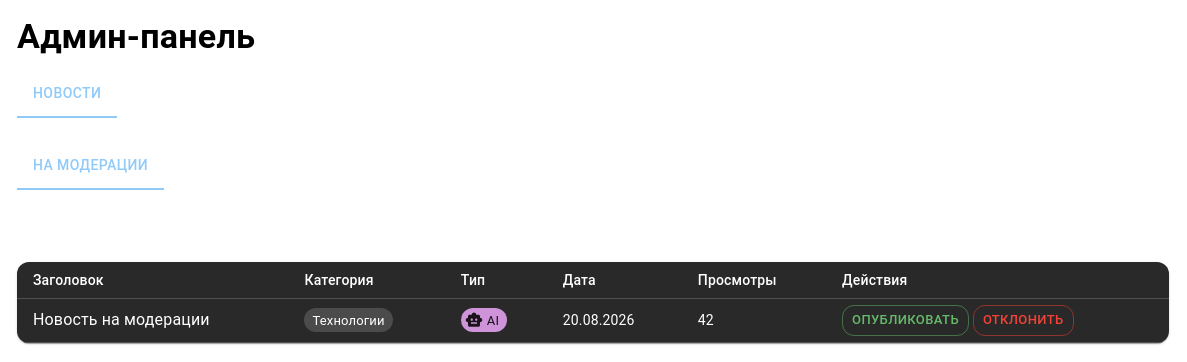
Test: AdminPage › loads users on users tab
Check: the heading "Админ-панель" is shown, box [17,16,255,56]
Click the tab "Пользователи". click: (191, 94)
box: [117,70,264,118]
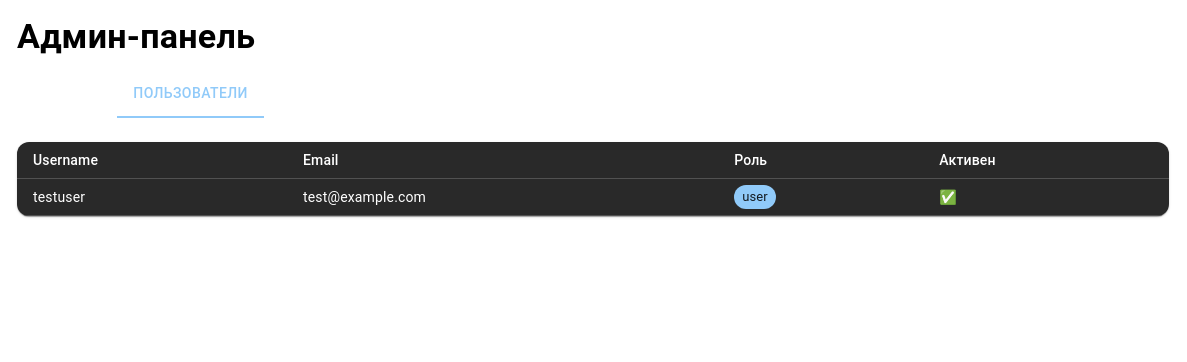
Check: the text "testuser" is shown, box [17,178,287,215]
Check: the text "test@example.com" is shown, box [287,178,718,215]
